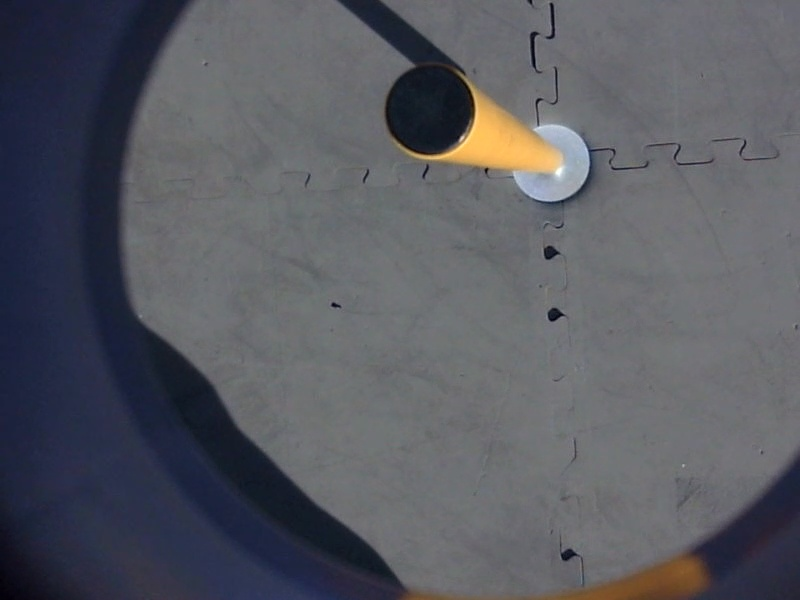tip: (376, 59, 485, 167)
